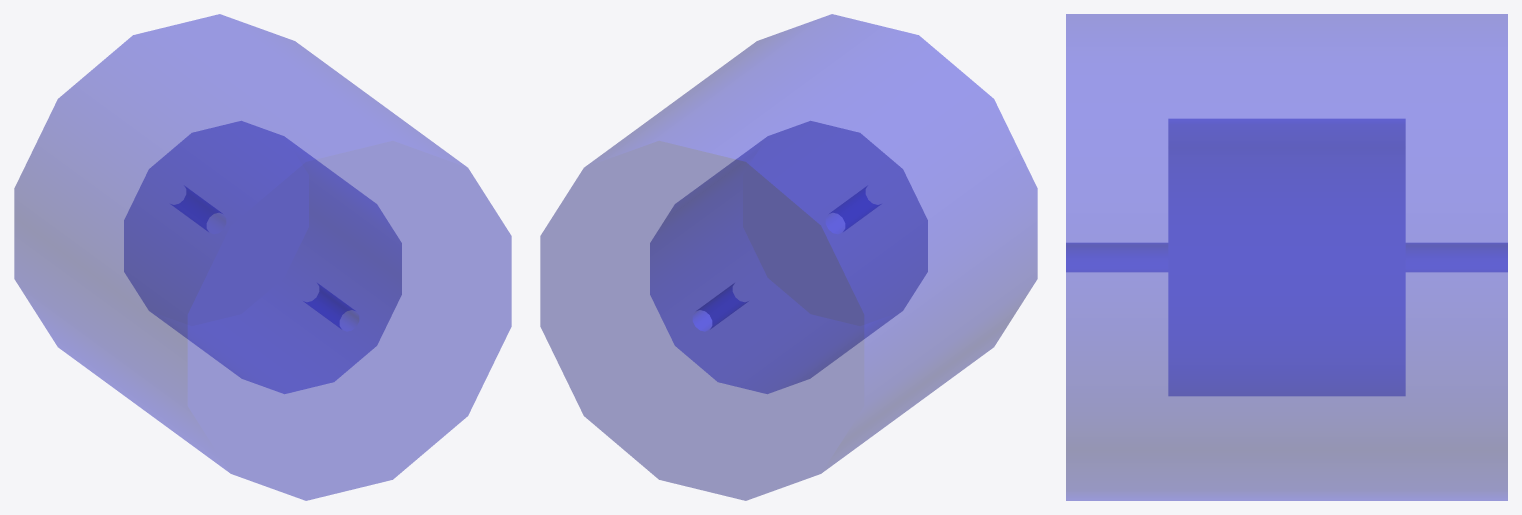
The model's file is MuonCalorimeters.gltf.
The picture shows the model from 3 angles, left to right: view 1: azimuth 30°, elevation 25°; view 2: azimuth 150°, elevation 25°; view 3: azimuth 270°, elevation 25°; orthographic projection. The views are drawn at different scales.
Visible parts, largest first — view 1: MuonCalorimeters_9; view 2: MuonCalorimeters_9; view 3: MuonCalorimeters_9.
Part boxes in pixels (box(x1,y1,x2,y2)): MuonCalorimeters_9: box(14, 14, 511, 500); MuonCalorimeters_9: box(540, 14, 1037, 500); MuonCalorimeters_9: box(1066, 14, 1507, 500).
Bounding box in the file's own units: 1211 × 1211 × 1120.
